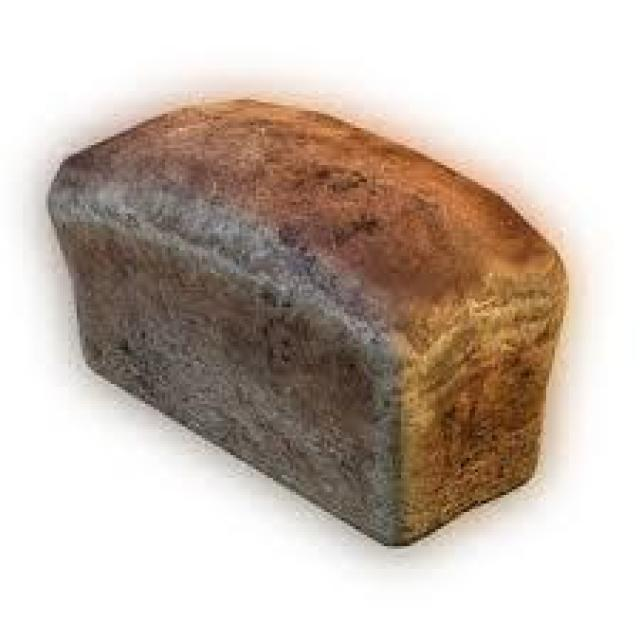organic: (46, 97, 569, 552)
